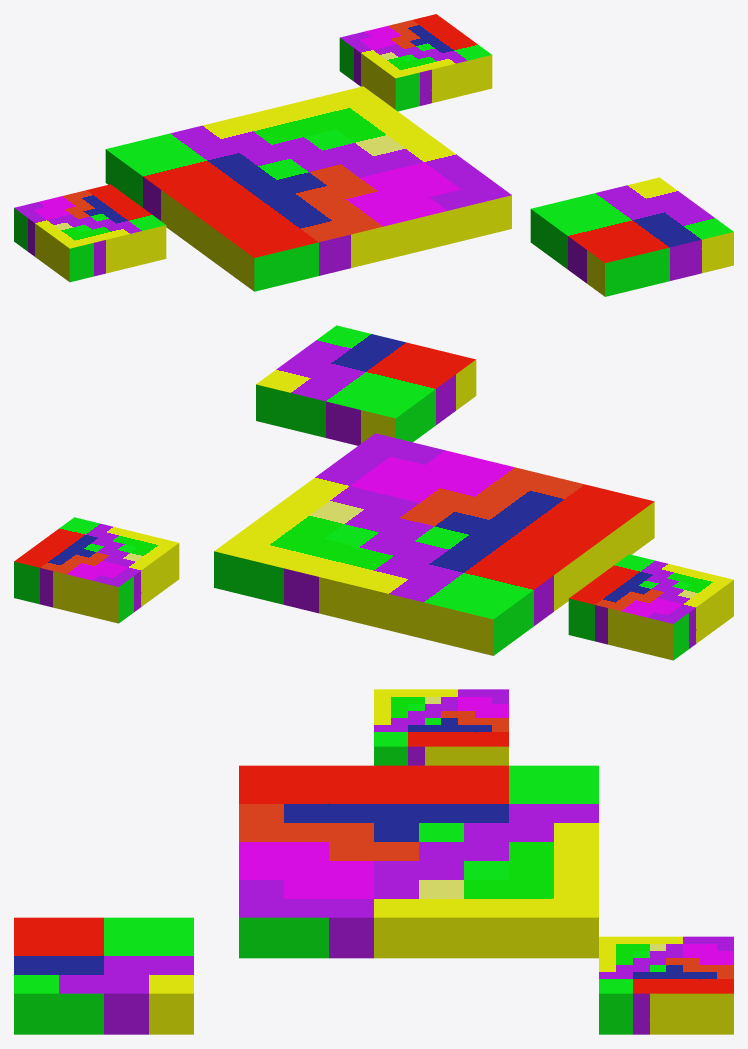
Rendered from paintsplatter.gltf.
3 renders of one model, top to bottom at view 1: azimuth 30°, elevation 25°; view 2: azimuth 150°, elevation 25°; view 3: azimuth 270°, elevation 25°, orthographic. The views are drawn at different scales.
Visible parts, largest first — view 1: Splatter2 (×3), Splatter1; view 2: Splatter2 (×3), Splatter1; view 3: Splatter2 (×3), Splatter1.
Boxes of the visible parts, x1,y1,x2,y2 form: Splatter2 (×3): [105, 14, 733, 296]; Splatter1: [14, 184, 166, 282]; Splatter2 (×3): [14, 325, 654, 655]; Splatter1: [568, 554, 733, 660]; Splatter2 (×3): [14, 765, 733, 1034]; Splatter1: [374, 689, 508, 765].
Bounding box in the file's own units: 1 × 0.0625 × 1.
1 material, 1 textured.
